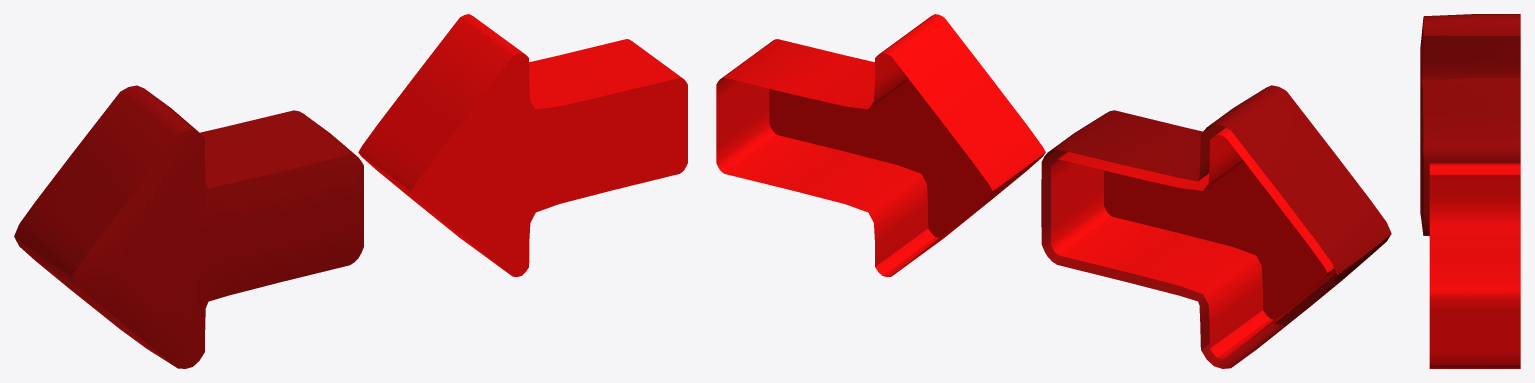
The model's file is Flecha.fbx.
The picture shows the model from 3 angles, left to right: view 1: azimuth 30°, elevation 25°; view 2: azimuth 150°, elevation 25°; view 3: azimuth 270°, elevation 25°; orthographic projection. The views are drawn at different scales.
Parts seen in each view (by area): view 1: Flechatocar, flecha; view 2: Flechatocar, flecha; view 3: flecha, Flechatocar.
Boxes of the visible parts, box(x1,y1,x2,y2) form: Flechatocar: box(14, 85, 363, 368); flecha: box(358, 14, 687, 276); Flechatocar: box(1041, 85, 1391, 368); flecha: box(716, 14, 1045, 276); flecha: box(1429, 163, 1520, 368); Flechatocar: box(1420, 14, 1520, 236).
Bounding box in the file's own units: 1038 × 388 × 170.
